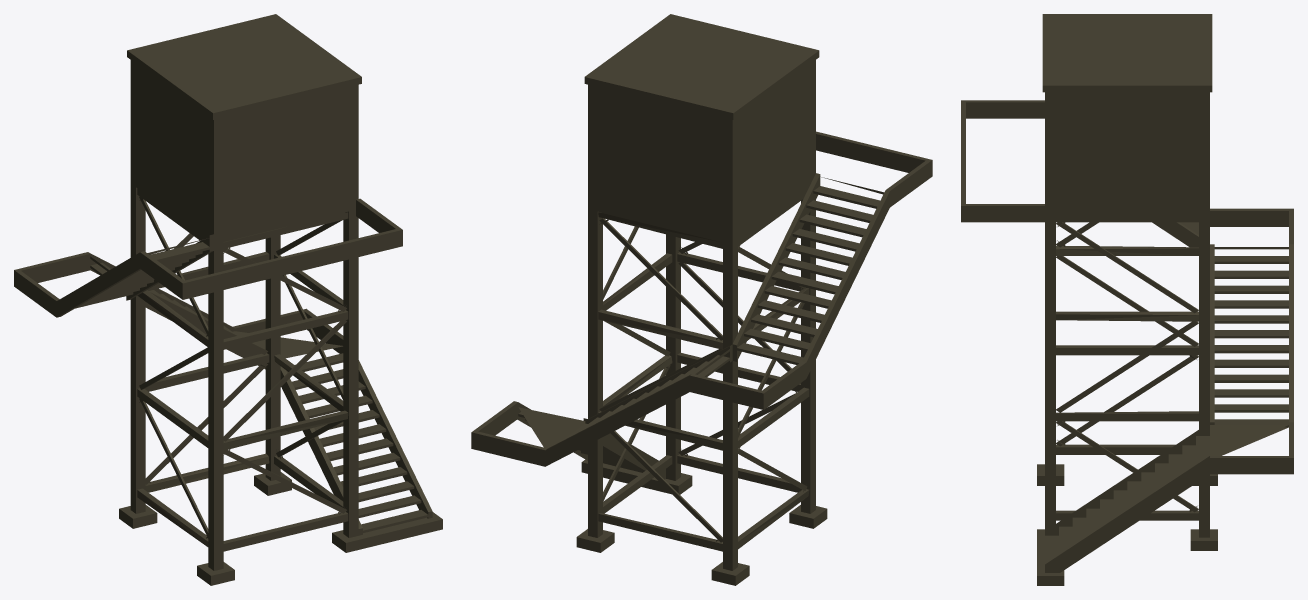
The model's file is bridge-guardtower.lod1.glb.
The picture shows the model from 3 angles, left to right: view 1: azimuth 30°, elevation 25°; view 2: azimuth 150°, elevation 25°; view 3: azimuth 270°, elevation 25°; orthographic projection.
Visible parts, largest first — view 1: defaultMaterial; view 2: defaultMaterial; view 3: defaultMaterial.
Boxes of the visible parts, x1,y1,x2,y2 form: defaultMaterial: (14, 14, 442, 585); defaultMaterial: (471, 14, 932, 585); defaultMaterial: (961, 14, 1293, 585).
Size of the model in its own units: 6.19 by 9.3 by 6.06.
